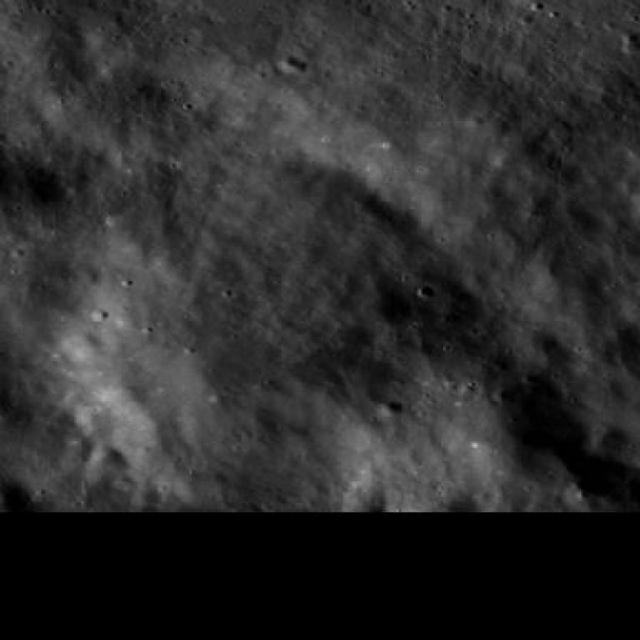crater: (41, 176, 508, 509), (338, 492, 392, 530), (361, 292, 414, 330), (517, 331, 563, 364), (590, 425, 630, 453), (90, 447, 128, 475), (565, 482, 604, 508), (64, 435, 96, 457), (380, 400, 406, 417)
